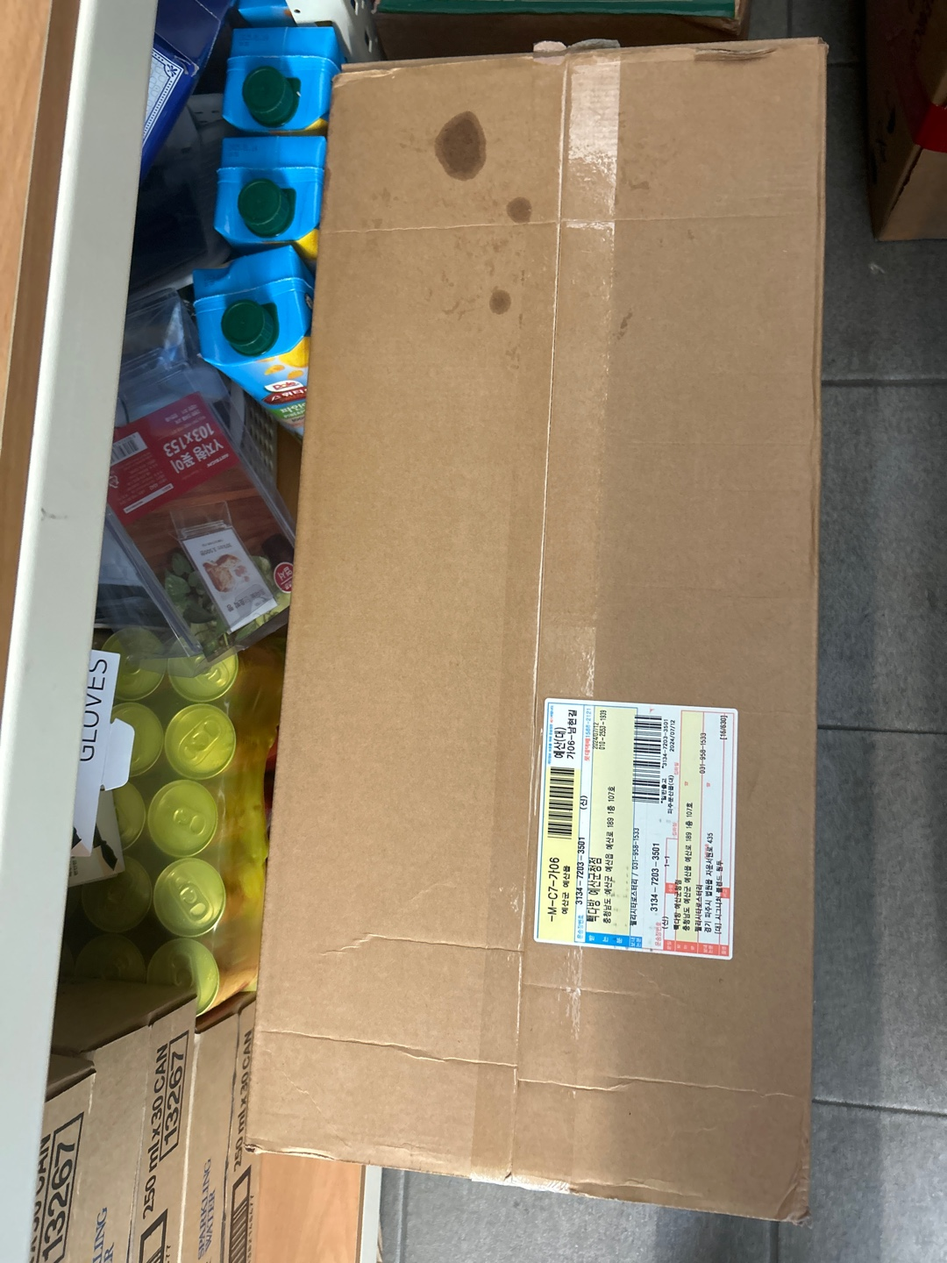undamaged: (234, 30, 826, 1226)
